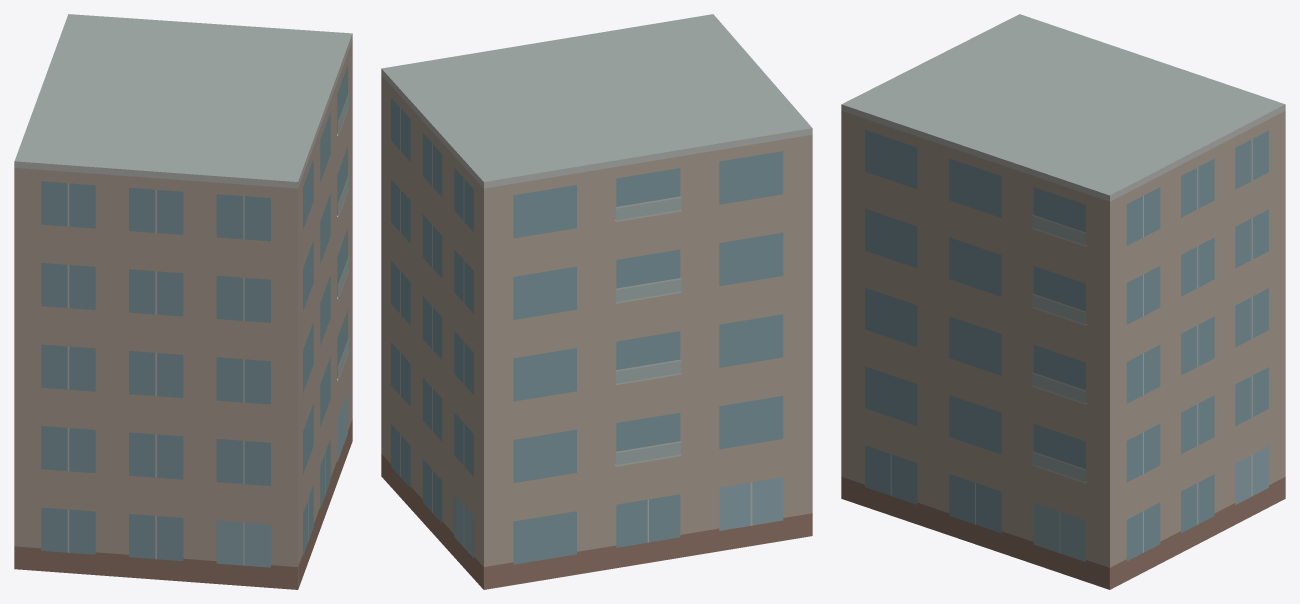
Rendered from survey-upis-32743316.glb.
3 views of the same model, side by side, from view 1: azimuth 30°, elevation 25°; view 2: azimuth 150°, elevation 25°; view 3: azimuth 270°, elevation 25° (orthographic). The views are drawn at different scales.
Parts seen in each view (by area): view 1: survey-upis-32743316.tmp; view 2: survey-upis-32743316.tmp; view 3: survey-upis-32743316.tmp.
Part boxes in pixels (x1=…): survey-upis-32743316.tmp: x1=14, y1=14, x2=352, y2=589; survey-upis-32743316.tmp: x1=381, y1=14, x2=812, y2=589; survey-upis-32743316.tmp: x1=841, y1=14, x2=1285, y2=589.
Size of the model in its own units: 15.06 by 15.25 by 15.57.
